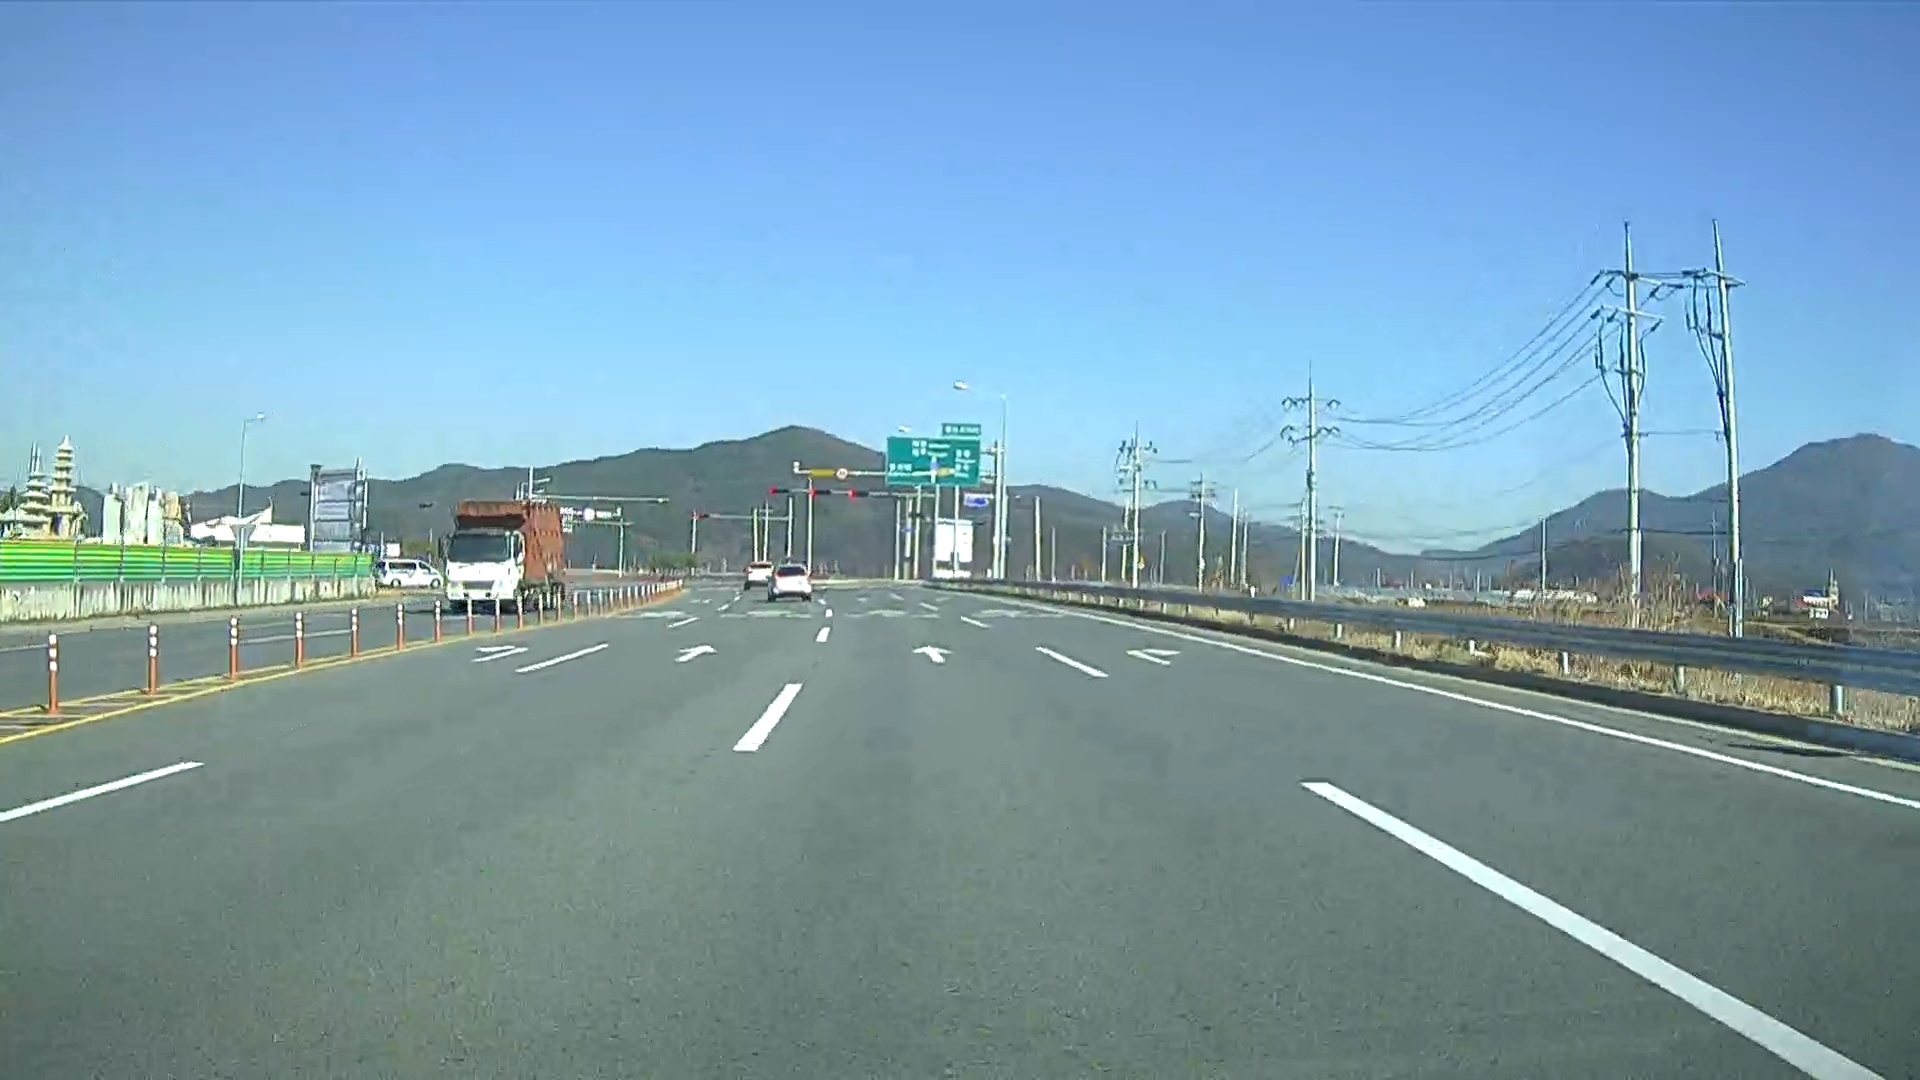trafficLight: (766, 491, 873, 496)
trafficSignCircle: (829, 465, 849, 480)
